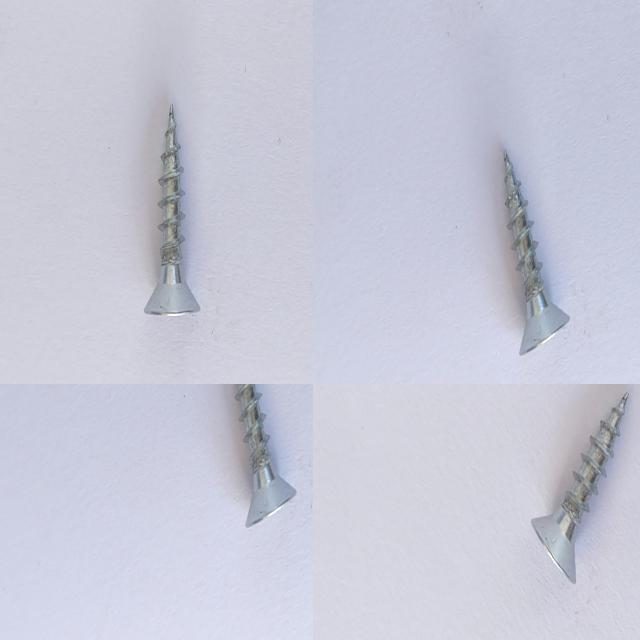Screw: (531, 391, 629, 583), (504, 149, 570, 355), (144, 104, 200, 315), (236, 384, 296, 527)
